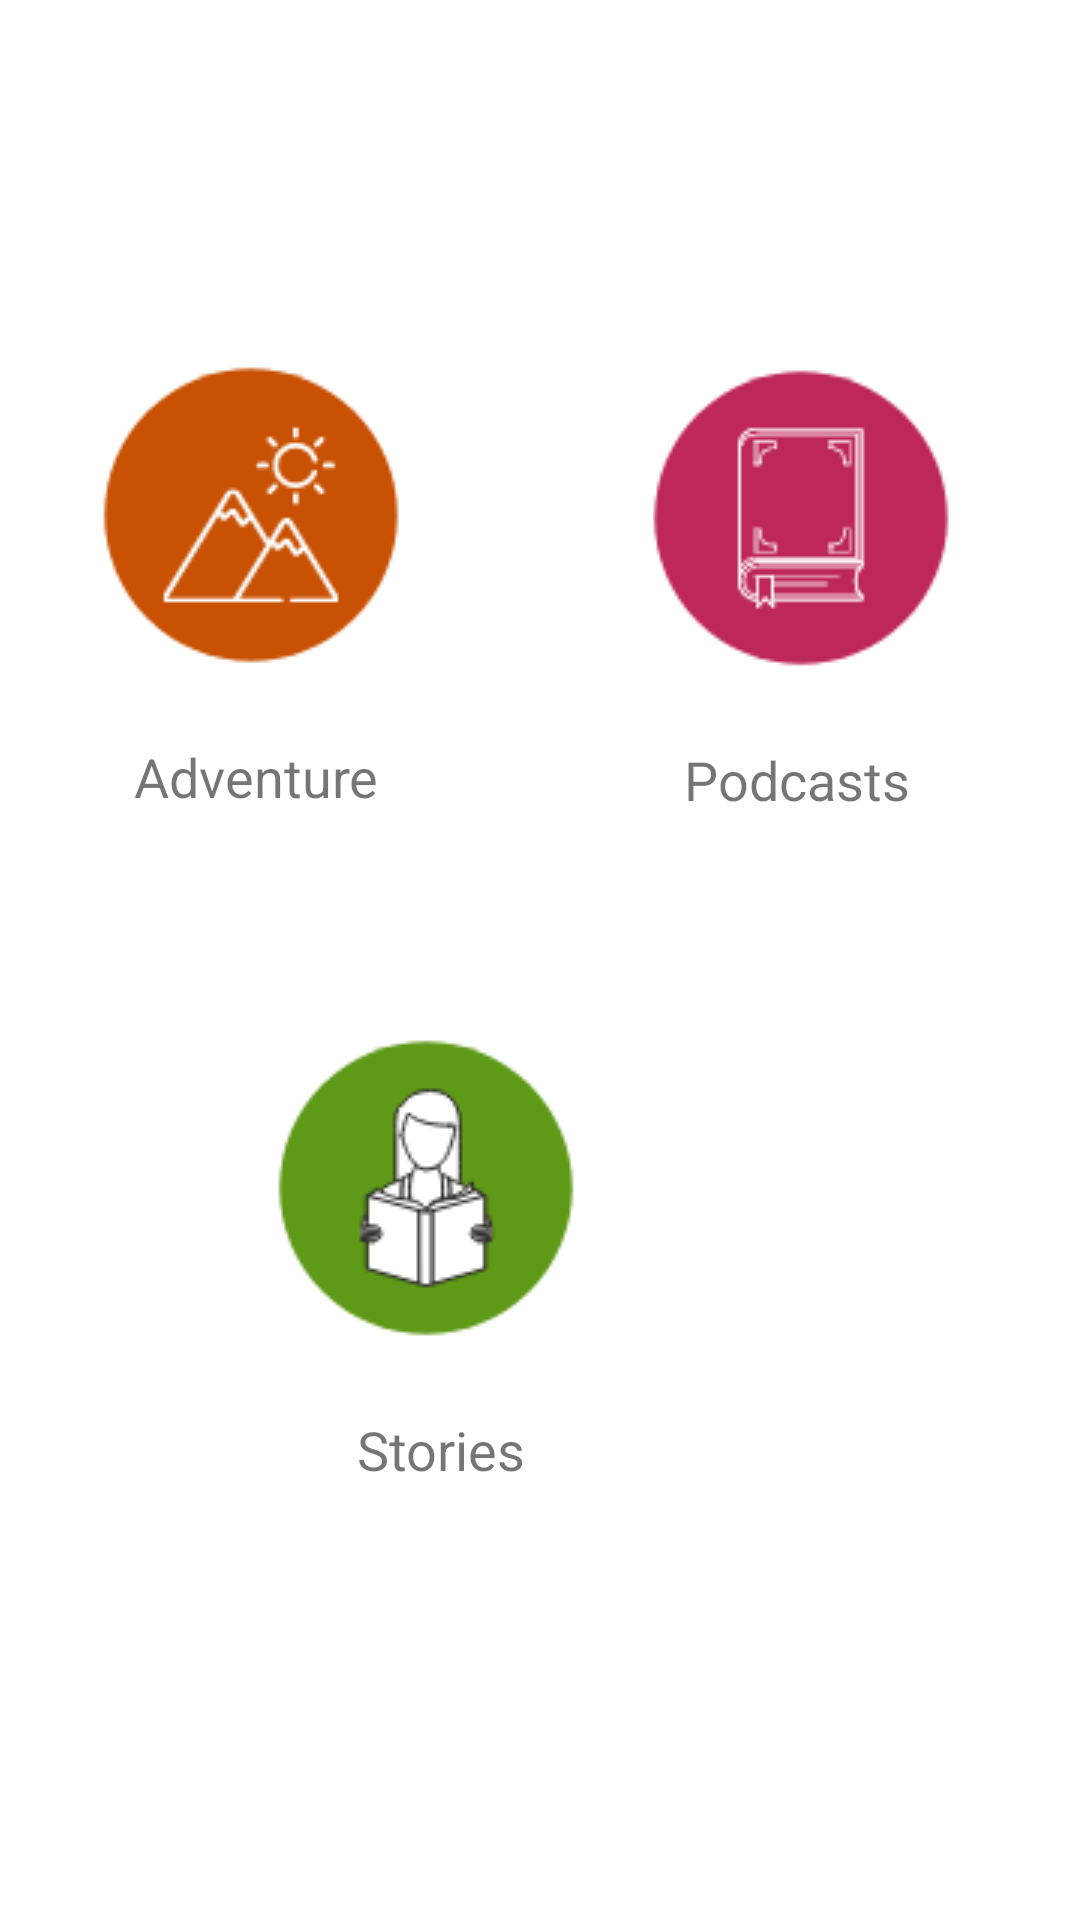

Named icons in this screenshot (1080x1920) and their centers, point (x, y):
devobutton: point (801, 518)
